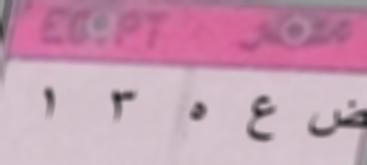1: (29, 80, 76, 126)
3: (100, 82, 142, 127)
ain: (240, 86, 279, 148)
daad: (305, 98, 367, 146)
haa: (184, 98, 216, 127)
